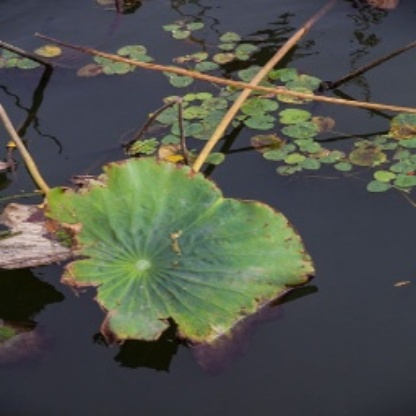leaf: (59, 157, 313, 352)
